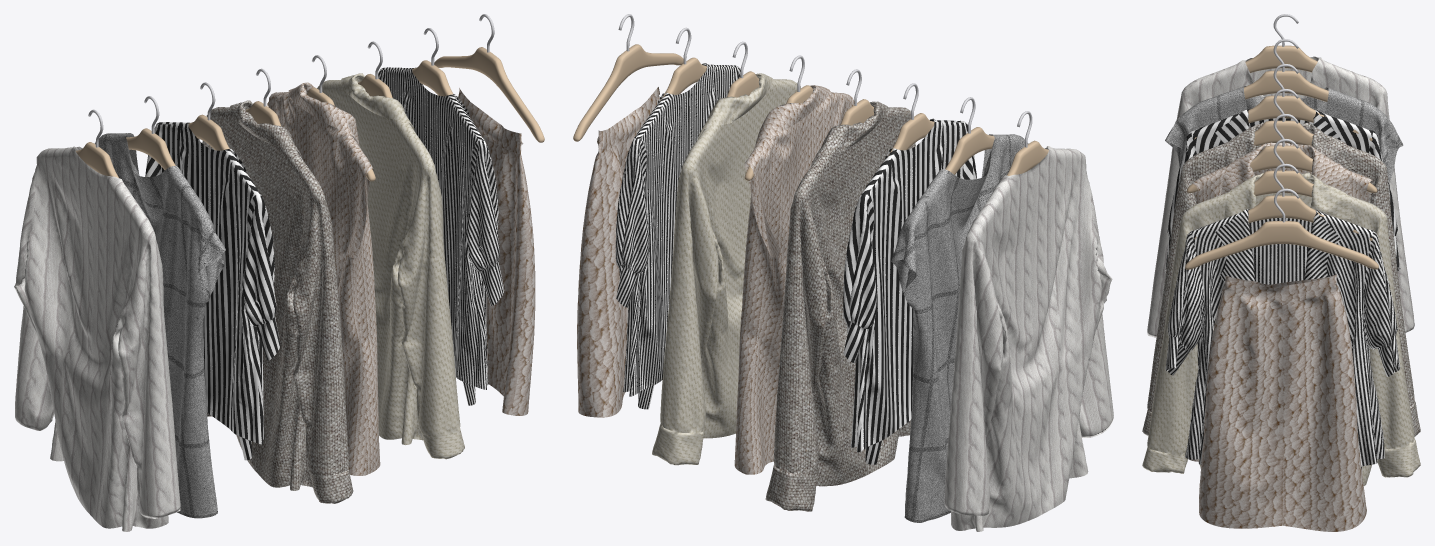
Rendered from rod-hang-short.full.glb.
3 renders of one model, left to right at view 1: azimuth 30°, elevation 25°; view 2: azimuth 150°, elevation 25°; view 3: azimuth 270°, elevation 25°, orthographic. The views are drawn at different scales.
Visible parts, largest first — view 1: set_14_008.001, set_14_015.001, set_14_014.001, set_14_009.001, set_14_017.001, set_14_013.001, set_14_016.001, set_14_094.001, Hanger_set_14_049.001, Hanger_set_14_029.001, Hanger_set_14_028.001, Hanger_set_14_051.001 (+3 smaller); view 2: set_14_008.001, set_14_015.001, set_14_014.001, set_14_009.001, set_14_017.001, set_14_013.001, set_14_016.001, set_14_094.001, Hanger_set_14_049.001, Hanger_set_14_029.001, Hanger_set_14_051.001, Hanger_set_14_028.001 (+3 smaller); view 3: set_14_094.001, set_14_016.001, set_14_014.001, set_14_015.001, set_14_008.001, set_14_017.001, set_14_009.001, set_14_013.001, Hanger_set_14_049.001, Hanger_set_14_029.001, Hanger_set_14_051.001, Hanger_set_14_095.001 (+4 smaller).
Part boxes in pixels (<box>): set_14_008.001: <box>14,146,180,531</box>; set_14_015.001: <box>202,100,353,503</box>; set_14_014.001: <box>317,73,464,459</box>; set_14_009.001: <box>145,122,280,460</box>; set_14_017.001: <box>94,133,225,518</box>; set_14_013.001: <box>268,82,380,475</box>; set_14_016.001: <box>378,67,504,405</box>; set_14_094.001: <box>458,88,535,415</box>; Hanger_set_14_049.001: <box>434,14,544,142</box>; Hanger_set_14_029.001: <box>126,96,175,169</box>; Hanger_set_14_028.001: <box>188,82,230,150</box>; Hanger_set_14_051.001: <box>412,28,454,96</box>; set_14_008.001: <box>944,146,1113,531</box>; set_14_015.001: <box>765,101,915,511</box>; set_14_014.001: <box>652,73,800,465</box>; set_14_009.001: <box>843,118,976,464</box>; set_14_017.001: <box>891,134,1028,522</box>; set_14_013.001: <box>734,85,853,474</box>; set_14_016.001: <box>615,63,740,409</box>; set_14_094.001: <box>577,87,660,417</box>; Hanger_set_14_049.001: <box>573,14,683,141</box>; Hanger_set_14_029.001: <box>945,97,994,174</box>; Hanger_set_14_051.001: <box>660,27,706,100</box>; Hanger_set_14_028.001: <box>887,83,934,157</box>; set_14_094.001: <box>1199,274,1366,531</box>; set_14_016.001: <box>1165,209,1400,471</box>; set_14_014.001: <box>1142,172,1420,485</box>; set_14_015.001: <box>1142,122,1420,436</box>; set_14_008.001: <box>1147,56,1414,337</box>; set_14_017.001: <box>1165,86,1403,182</box>; set_14_009.001: <box>1165,109,1400,270</box>; set_14_013.001: <box>1188,142,1372,461</box>; Hanger_set_14_049.001: <box>1185,188,1378,269</box>; Hanger_set_14_029.001: <box>1244,39,1328,101</box>; Hanger_set_14_051.001: <box>1194,163,1372,240</box>; Hanger_set_14_095.001: <box>1187,114,1377,193</box>.
Size of the model in its own units: 0.9402 by 0.8136 by 0.5661.
Materials: 24 (8 with a texture image).
